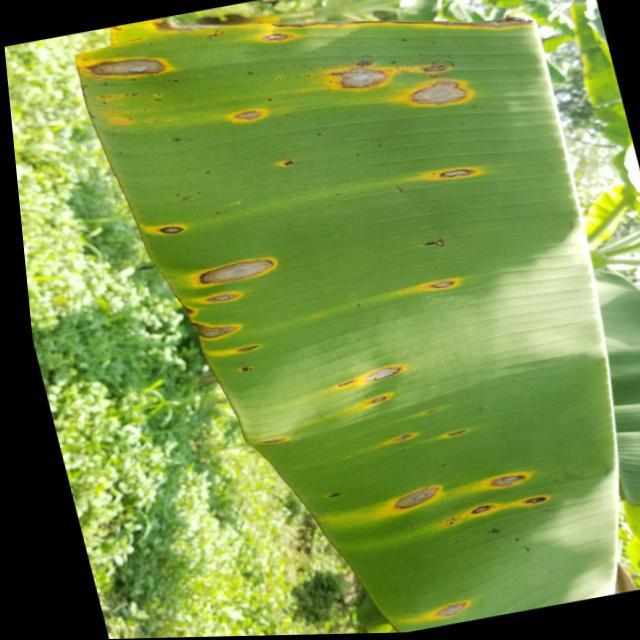Early_rust: (63, 0, 616, 623)
